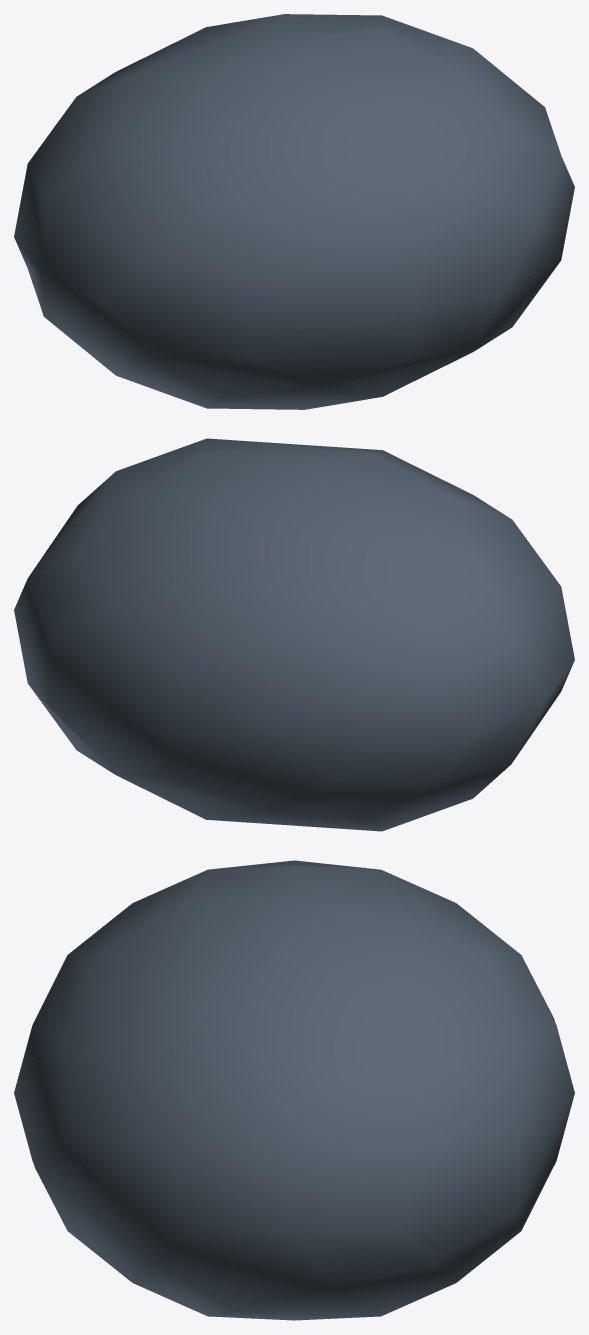
File: boulder.glb
The picture shows the model from 3 angles, top to bottom: view 1: azimuth 30°, elevation 25°; view 2: azimuth 150°, elevation 25°; view 3: azimuth 270°, elevation 25°; orthographic projection. The views are drawn at different scales.
Bounding box in the file's own units: 5.04 × 3.24 × 4.32.
